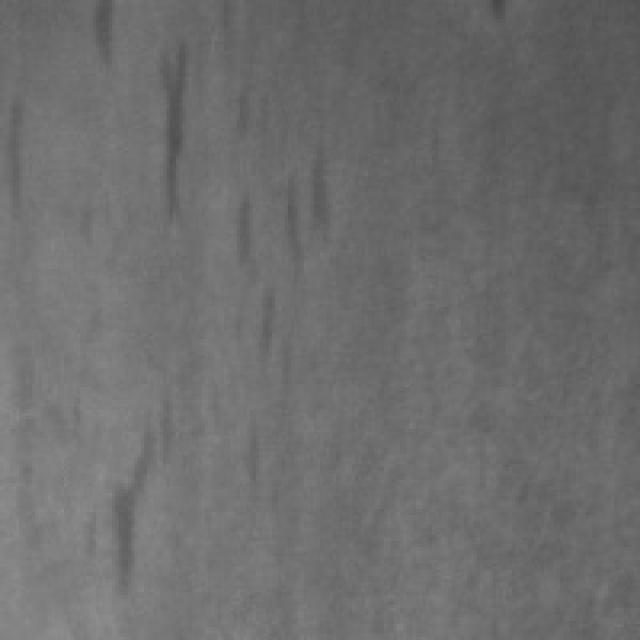inclusion: (218, 138, 342, 362), (86, 378, 182, 592), (131, 22, 205, 234), (77, 0, 112, 74)
